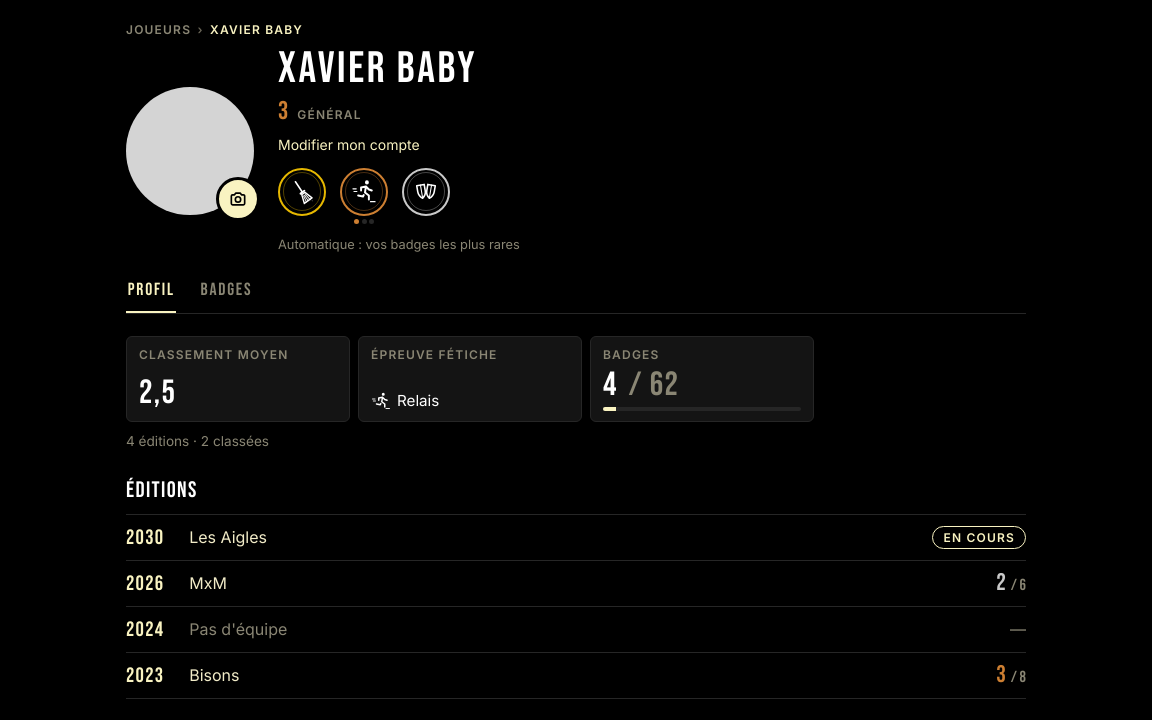
Scenario: player profile page › owner view: the photo › speaks French for the camera and the editor
The image size is (1152, 720).
Step 1. Click the button named "Changer ma photo" → {"x": 238, "y": 199}, box [216,177,260,221]
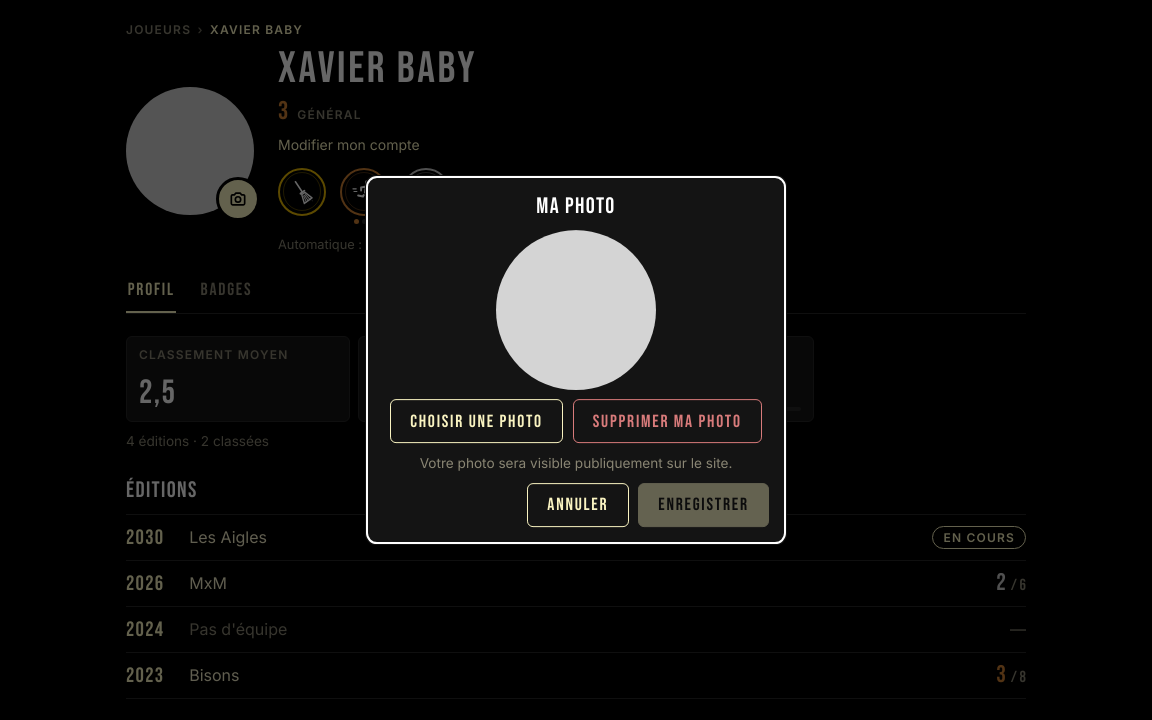
Result: the dialog "Ma photo" shows "Votre photo sera visible publiquement sur le site." at [420,455,732,471]
Result: the button "Supprimer ma photo" is shown at [573,399,762,443]
Result: the file field labelled "Choisir une photo" is shown at [390,399,563,443]
